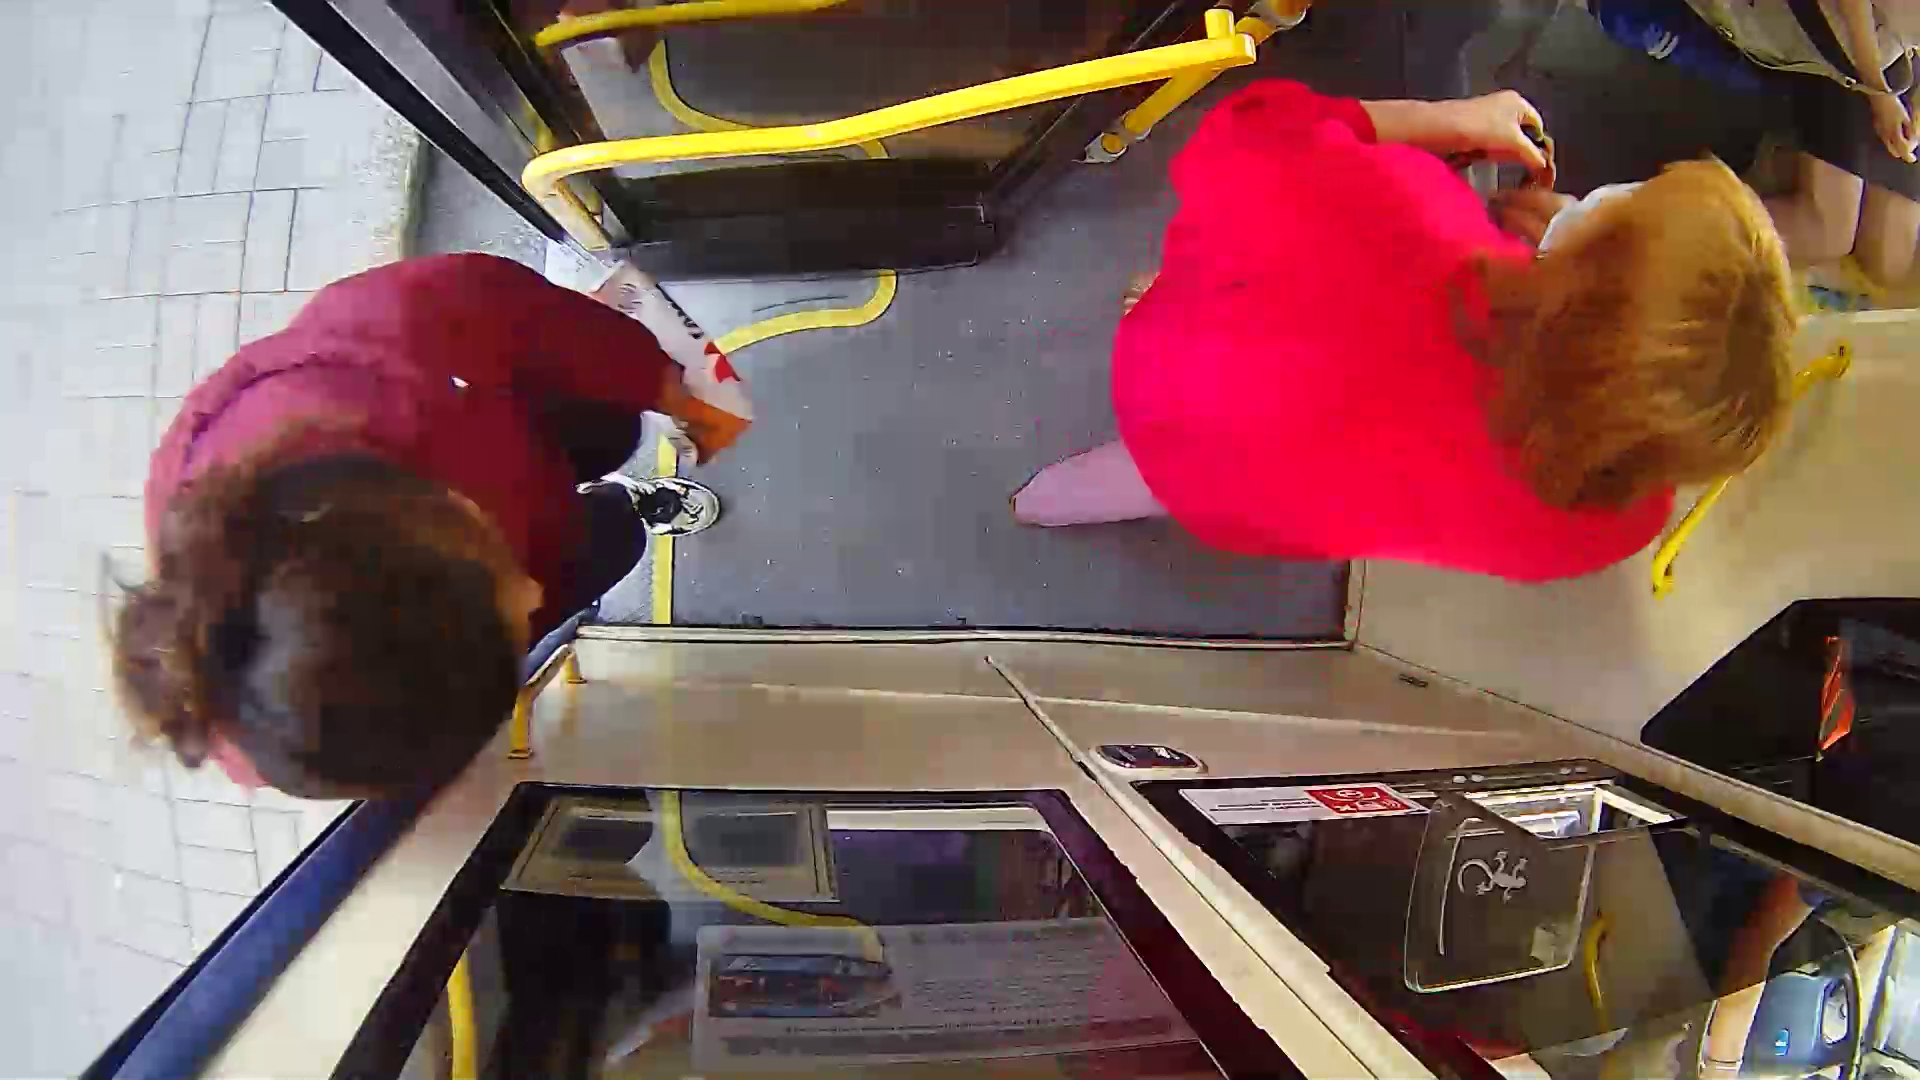person: (1048, 91, 1842, 618), (89, 269, 796, 785)
